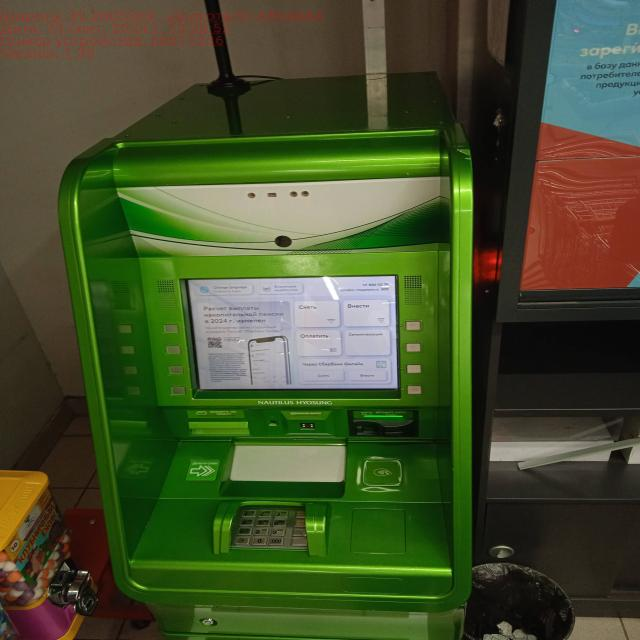bank: (61, 75, 484, 640)
